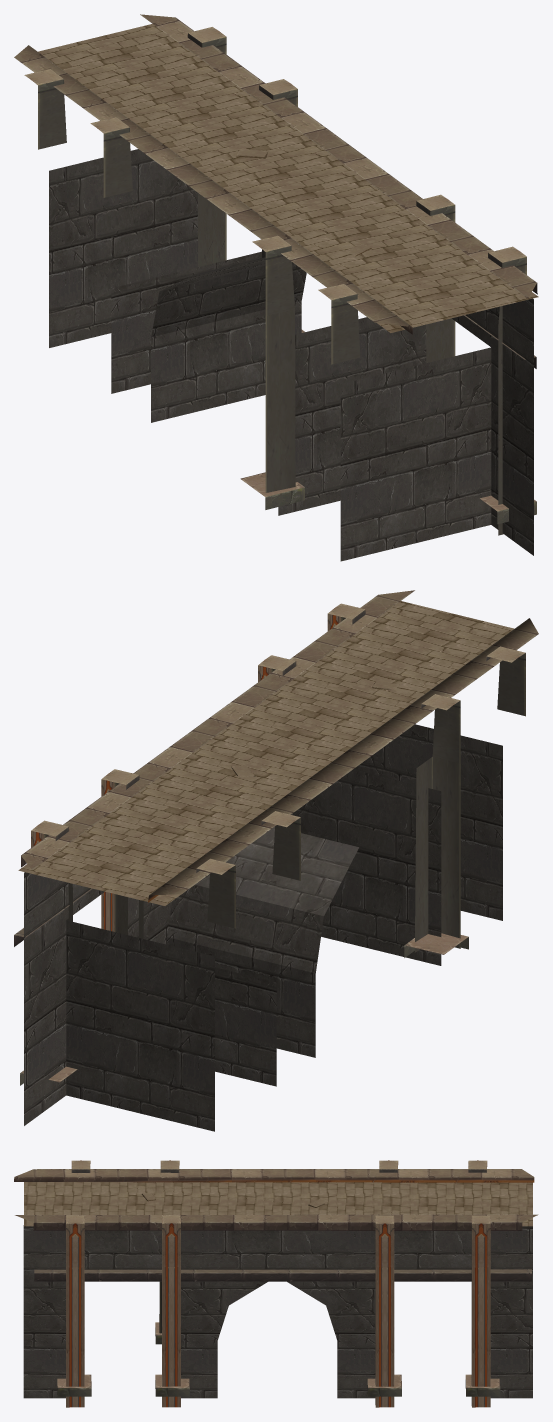
Rendered from terrain_section03_guanka11_bj04.FBX.
The picture shows the model from 3 angles, top to bottom: view 1: azimuth 30°, elevation 25°; view 2: azimuth 150°, elevation 25°; view 3: azimuth 270°, elevation 25°; orthographic projection. The views are drawn at different scales.
Visible parts, largest first — view 1: terrain_section03_guanka11_bj04; view 2: terrain_section03_guanka11_bj04; view 3: terrain_section03_guanka11_bj04.
Boxes of the visible parts, box(x1,y1,x2,y2) form: terrain_section03_guanka11_bj04: box(14, 14, 538, 561); terrain_section03_guanka11_bj04: box(14, 590, 538, 1131); terrain_section03_guanka11_bj04: box(14, 1160, 538, 1407).
Size of the model in its own units: 14.1 by 18.41 by 47.61.
